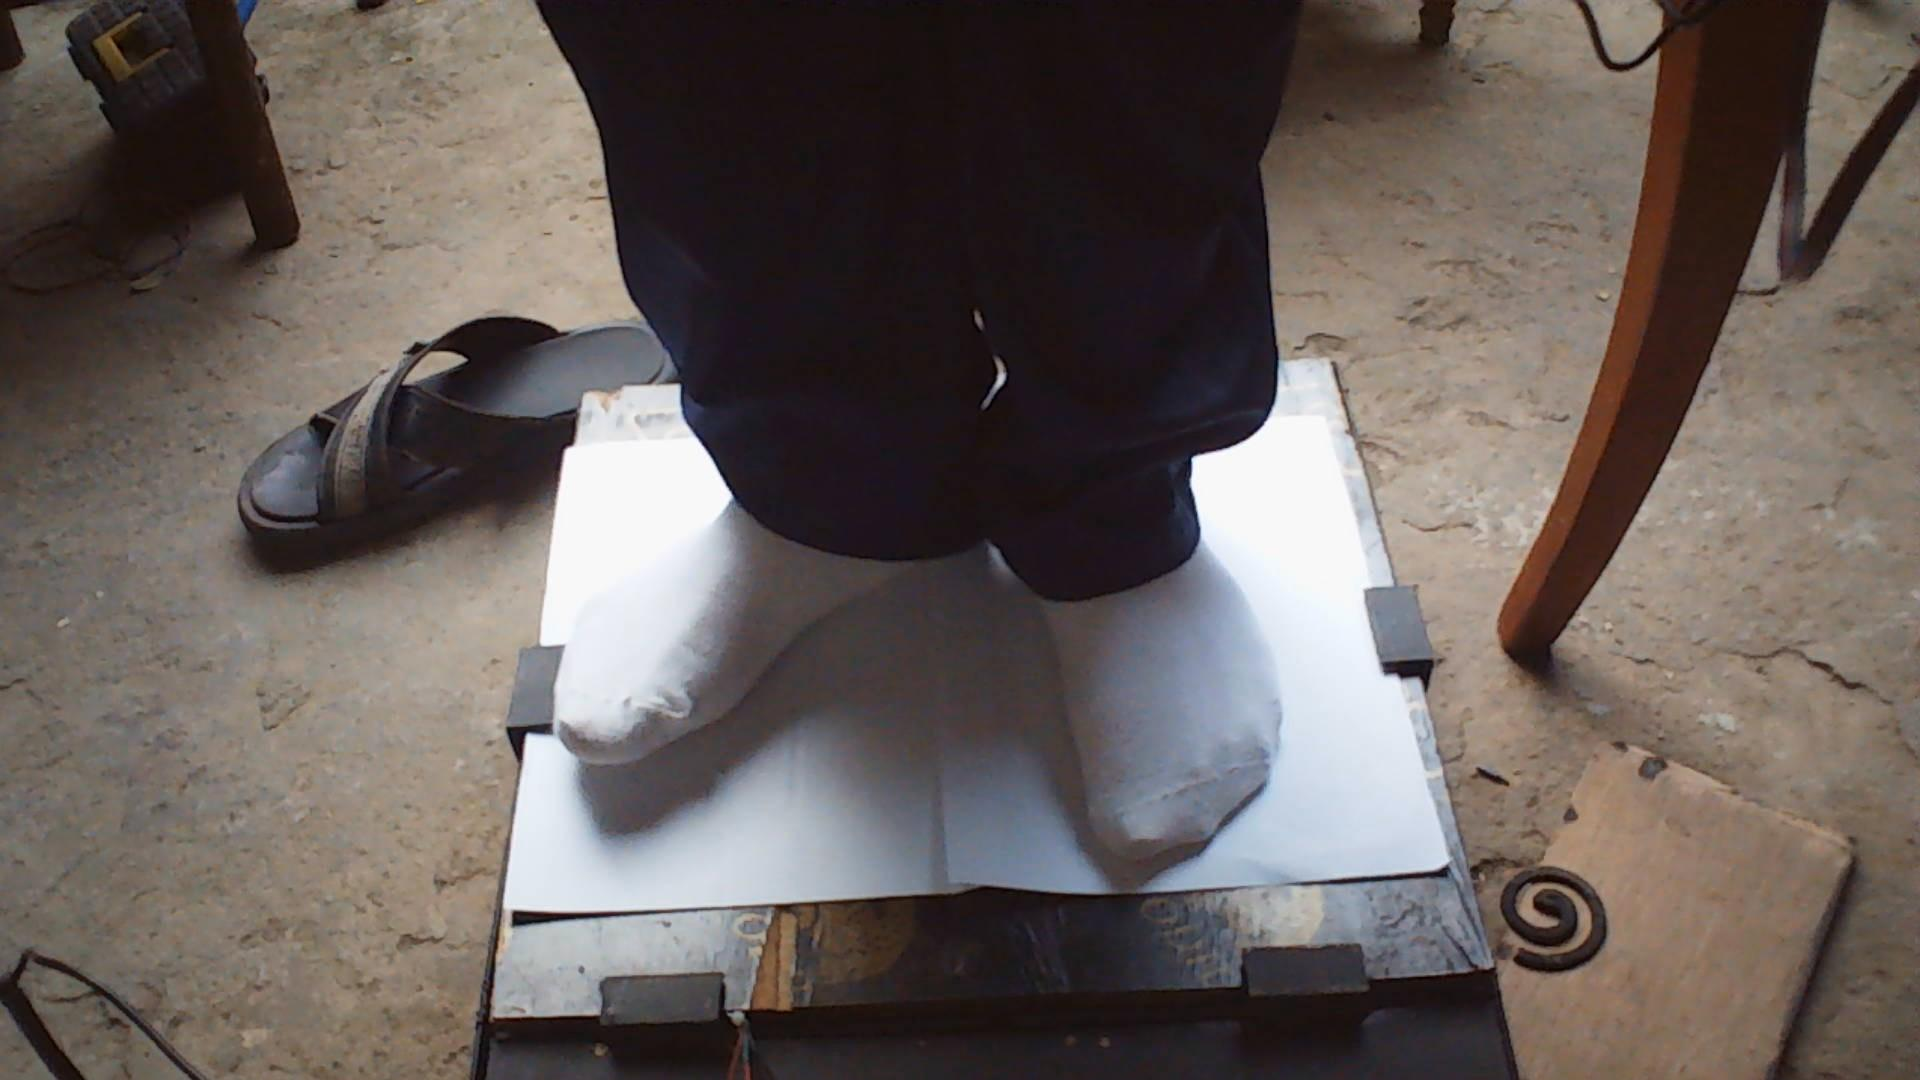white_socks: (949, 380, 1317, 905), (563, 415, 980, 785)
